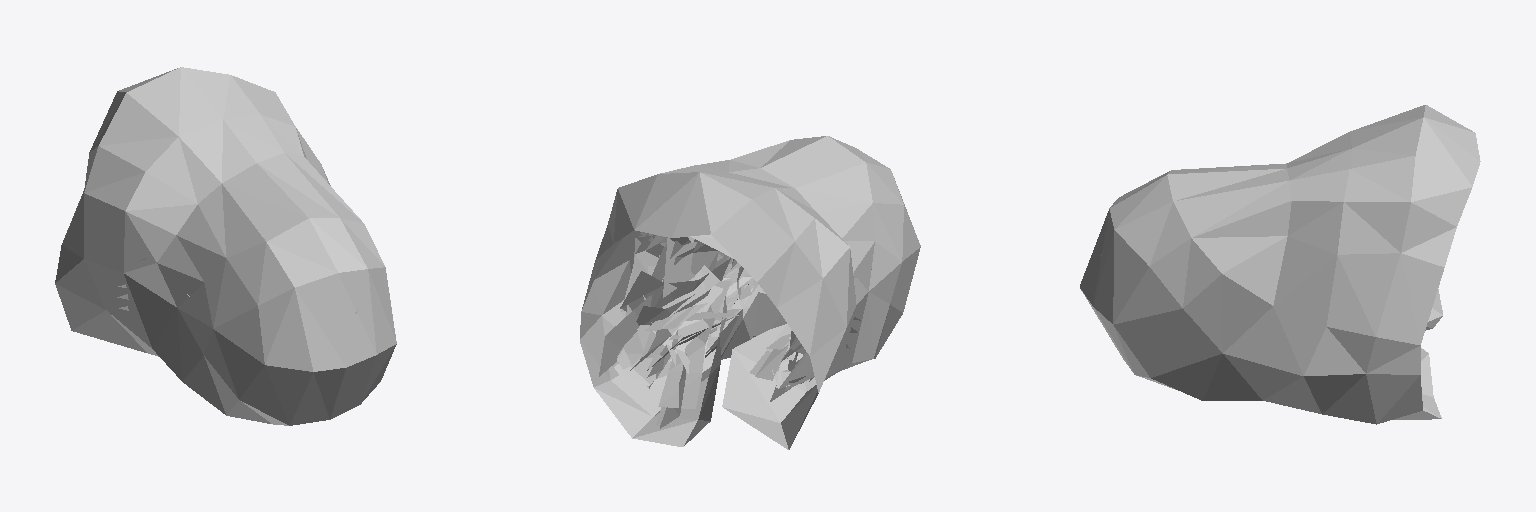
Rendered from hair_001_r.obj.
3 views of the same model, side by side, from view 1: azimuth 30°, elevation 25°; view 2: azimuth 150°, elevation 25°; view 3: azimuth 270°, elevation 25° (orthographic).
Visible parts, largest first — view 1: hair_001_r_high_2; view 2: hair_001_r_high_2, hair_001_r_high_1, hair_001_r_med_1, hair_001_r_low_1; view 3: hair_001_r_high_2.
Boxes of the visible parts, x1,y1,x2,y2 form: hair_001_r_high_2: [55, 67, 396, 425]; hair_001_r_high_2: [580, 136, 920, 449]; hair_001_r_high_1: [599, 232, 814, 428]; hair_001_r_med_1: [621, 234, 860, 387]; hair_001_r_low_1: [626, 233, 871, 388]; hair_001_r_high_2: [1080, 105, 1480, 424].
Size of the model in its own units: 0.3359 by 0.3501 by 0.4639.